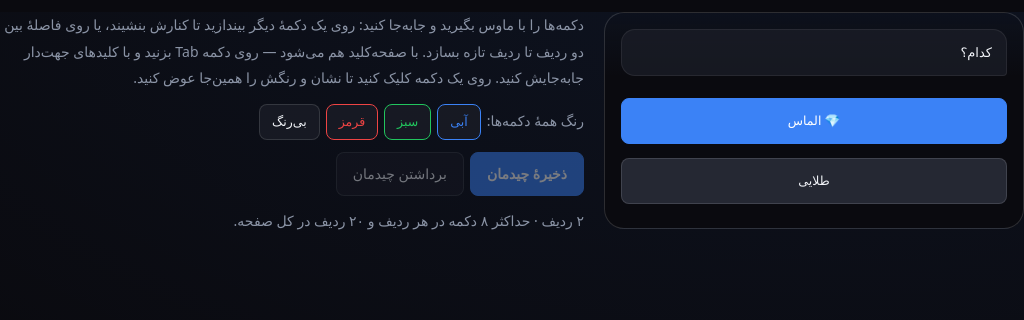
a button’s badge and colour, edited where it is arranged › «رنگ همهٔ دکمه‌ها» writes one colour to every button and touches no badge
Click the button with aria-label "همهٔ دکمه‌ها سبز" at (408, 122), box [384,104,431,140]
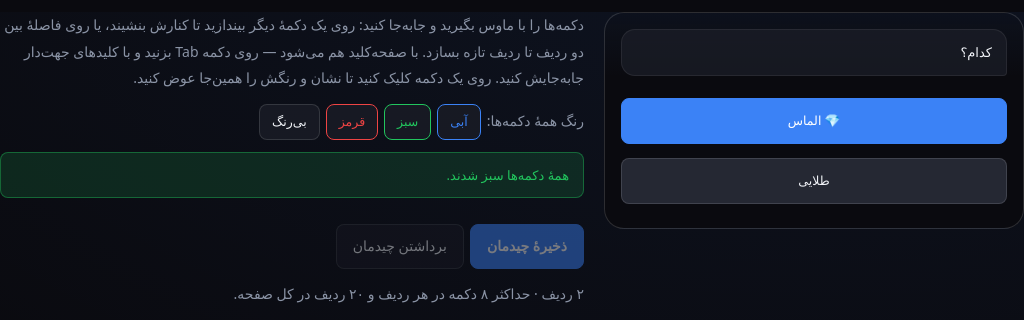
expect the text "همهٔ دکمه‌ها سبز شدند." is shown: met, box [0,152,584,198]
